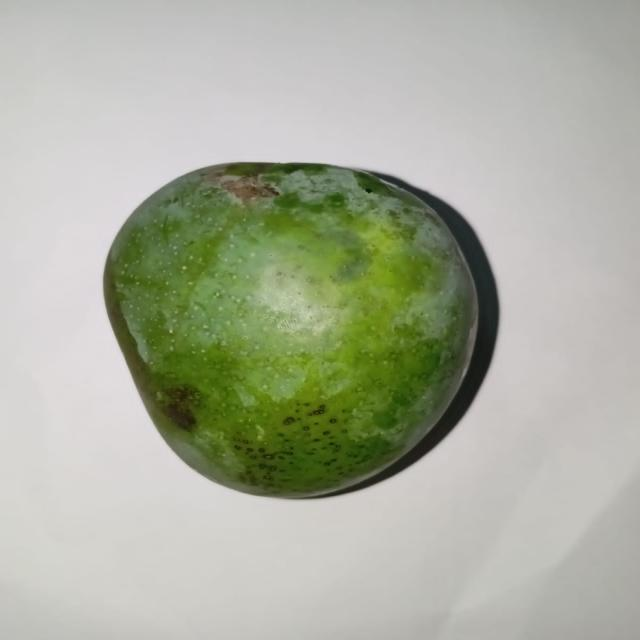rotten_mango: (103, 161, 481, 497)
